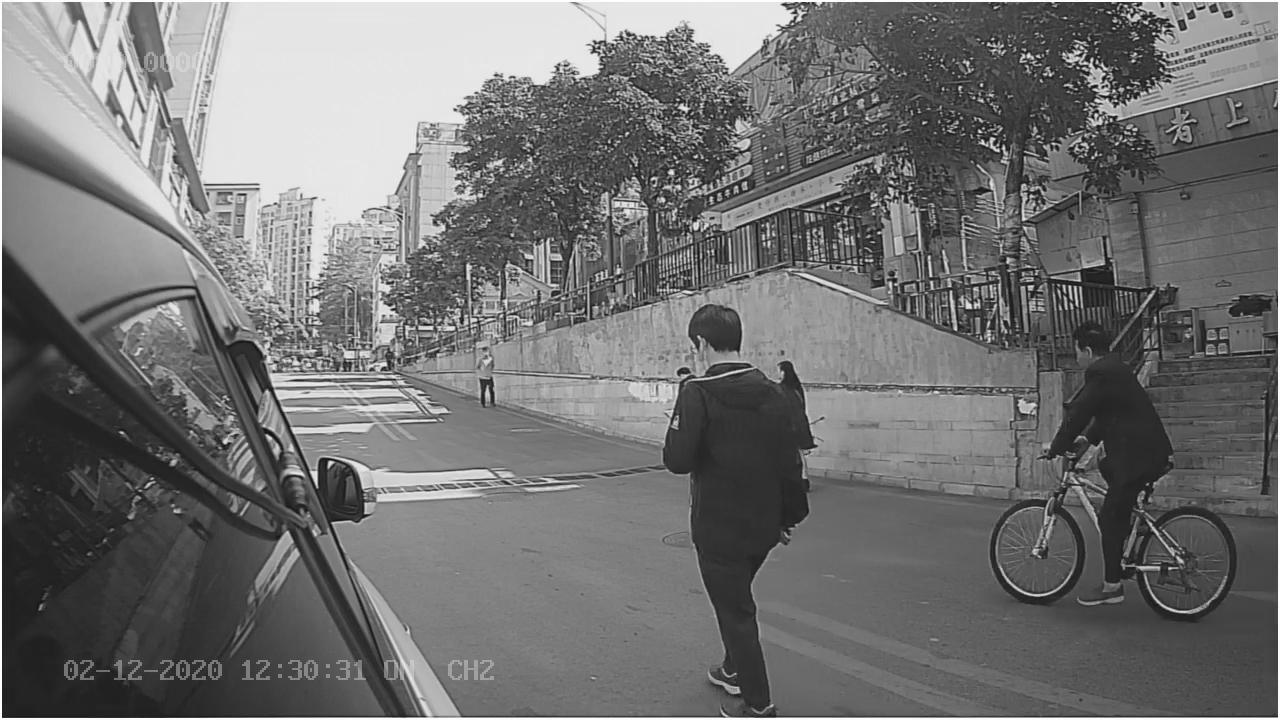person: (650, 304, 817, 546)
